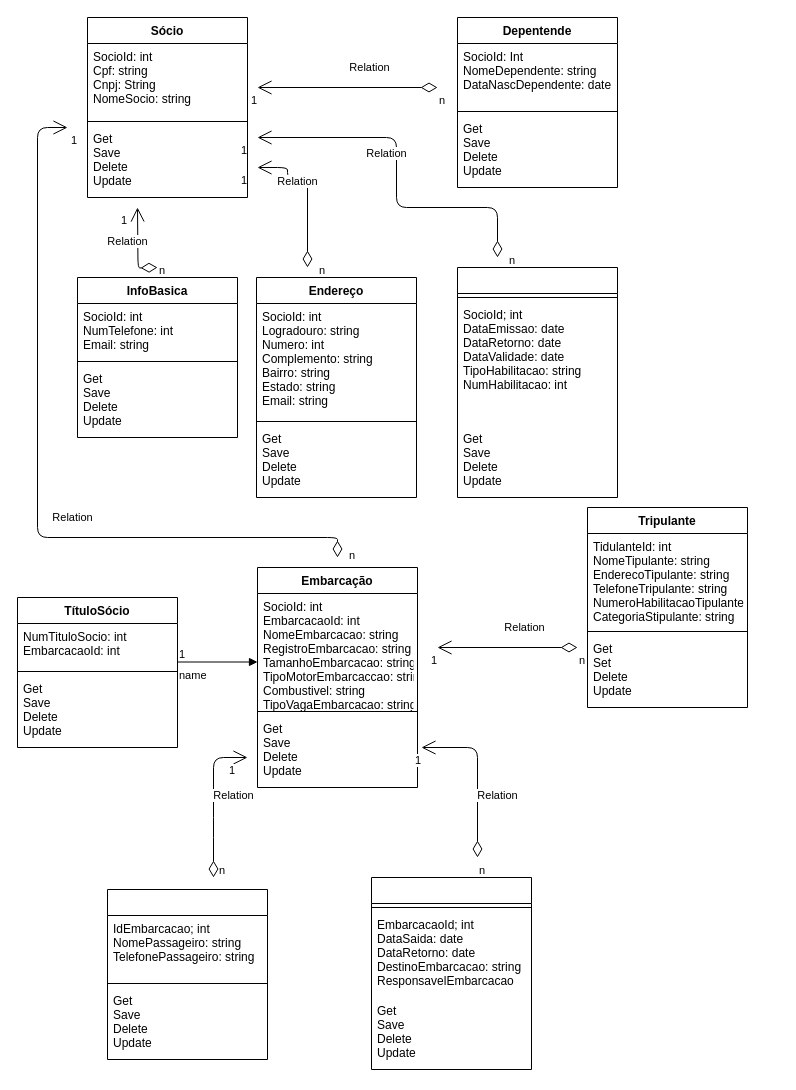
This 796x1090 diagram has some shape labels left out. Each missing label, with the box of its shape:
HabilitacaoNautica: (456, 266, 618, 498)
PassageiroEmbarcacao: (106, 888, 268, 1060)
PlanoNavegação: (370, 876, 532, 1070)
